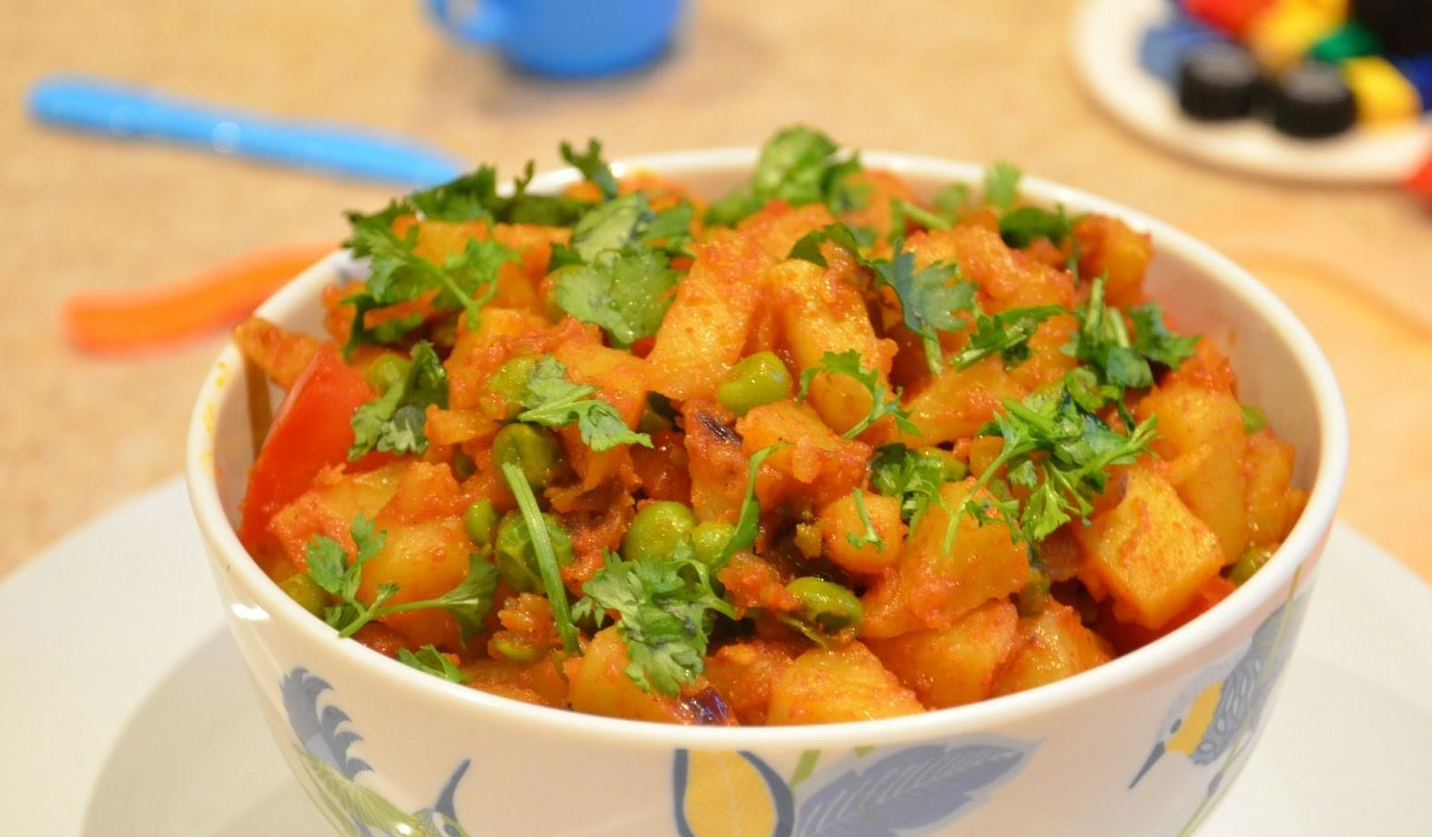AlooMasala: (232, 166, 1308, 729)
